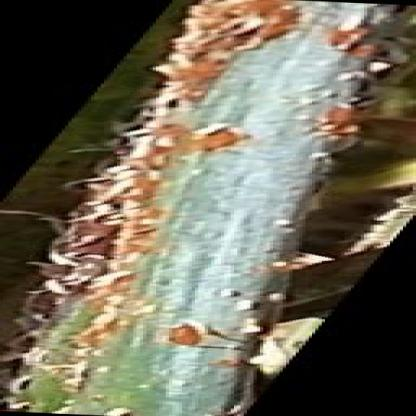wheat Stem Rust: (60, 190, 265, 356), (189, 3, 310, 97), (151, 112, 249, 183), (79, 366, 212, 416)
